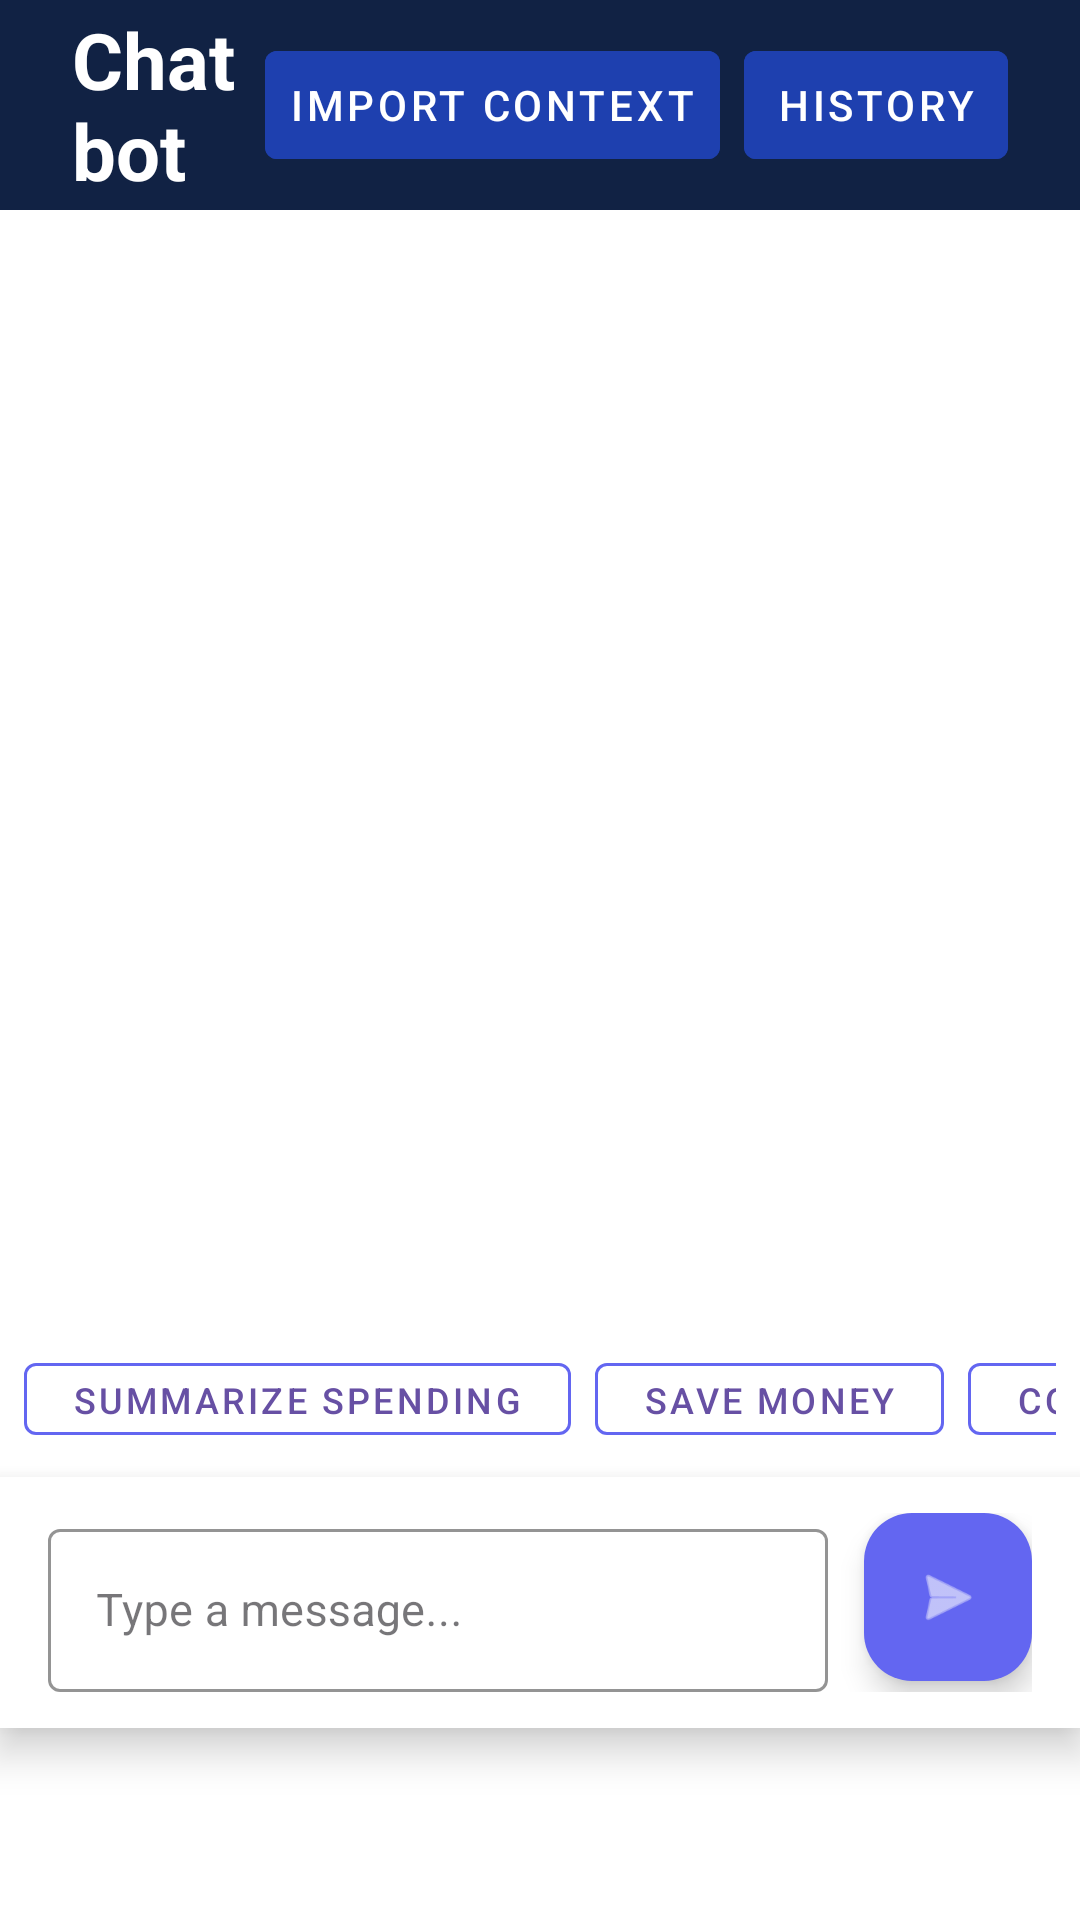

Icon bounding boxes for this 1080px×1920px phone screenshot, format (x1, y1, x2, y2):
Send message: (864, 1513, 1032, 1681)
